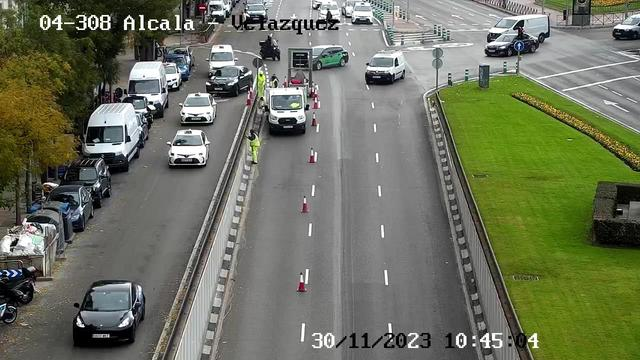car: (73, 280, 145, 346), (60, 158, 111, 208), (46, 185, 94, 231), (166, 129, 210, 166), (205, 65, 253, 96), (178, 92, 217, 124), (485, 34, 539, 56), (205, 45, 238, 78), (311, 45, 349, 70), (122, 96, 153, 124), (163, 54, 190, 81), (612, 14, 640, 39), (165, 45, 195, 68), (162, 62, 182, 89), (351, 2, 373, 24), (318, 1, 341, 22), (204, 1, 226, 21), (244, 4, 268, 22)
motorcycle: (0, 268, 36, 308), (259, 39, 281, 60)
truck: (83, 103, 139, 172), (124, 62, 169, 118), (264, 88, 309, 134), (487, 14, 550, 44), (365, 50, 405, 84)
